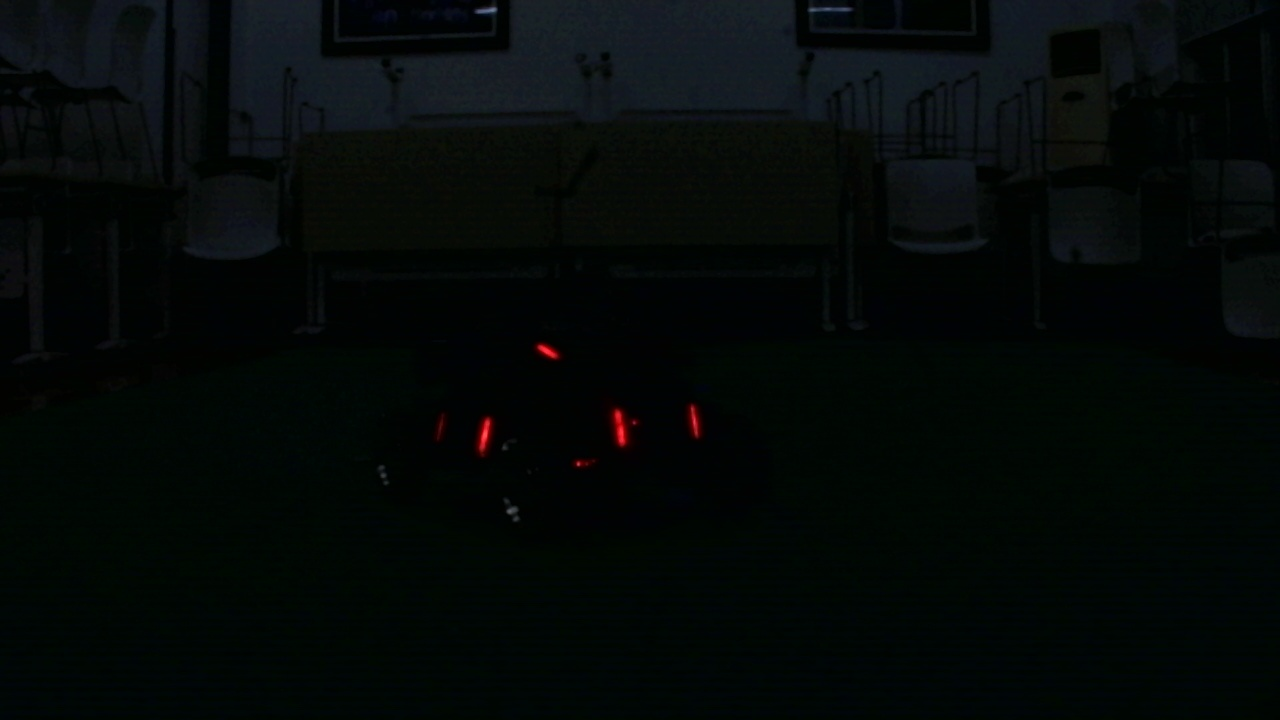lamp: (471, 417, 493, 454), (608, 407, 630, 443), (685, 401, 703, 435)
pair1: (611, 397, 700, 445)
